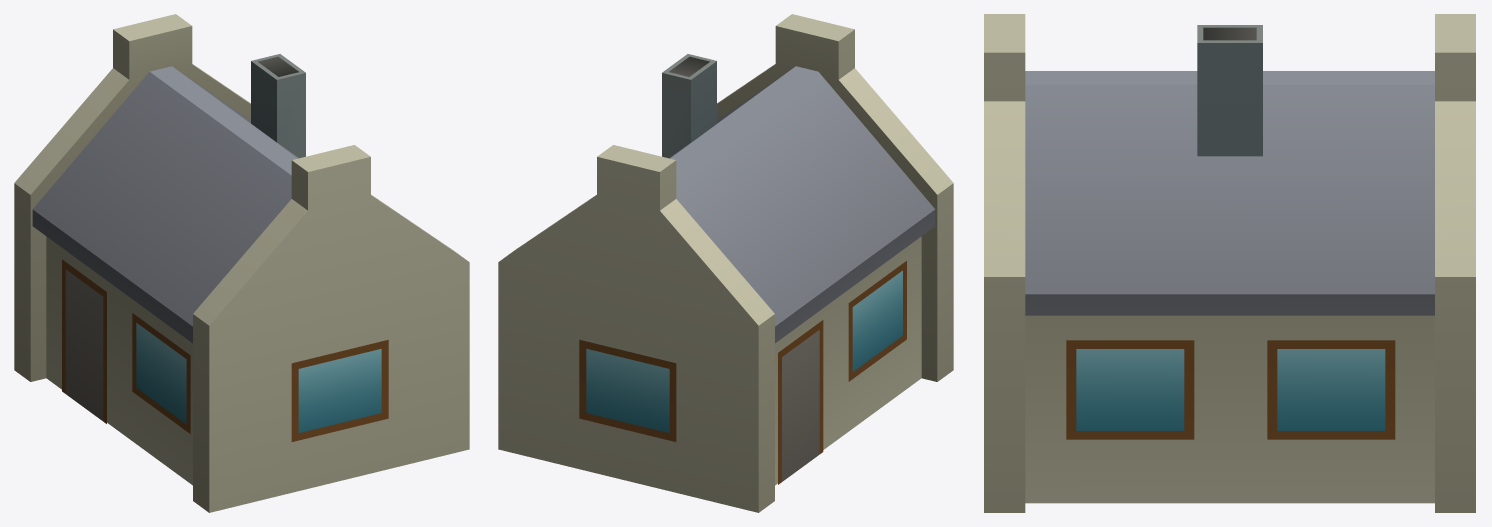
Rendered from House_M_A.fbx.
The picture shows the model from 3 angles, left to right: view 1: azimuth 30°, elevation 25°; view 2: azimuth 150°, elevation 25°; view 3: azimuth 270°, elevation 25°; orthographic projection. The views are drawn at different scales.
Parts seen in each view (by area): view 1: House_M_A; view 2: House_M_A; view 3: House_M_A.
Part boxes in pixels (x1,y1,x2,y2): House_M_A: (14, 14, 469, 512); House_M_A: (498, 14, 953, 512); House_M_A: (984, 14, 1475, 512).
Bounding box in the file's own units: 634 × 777 × 828.
